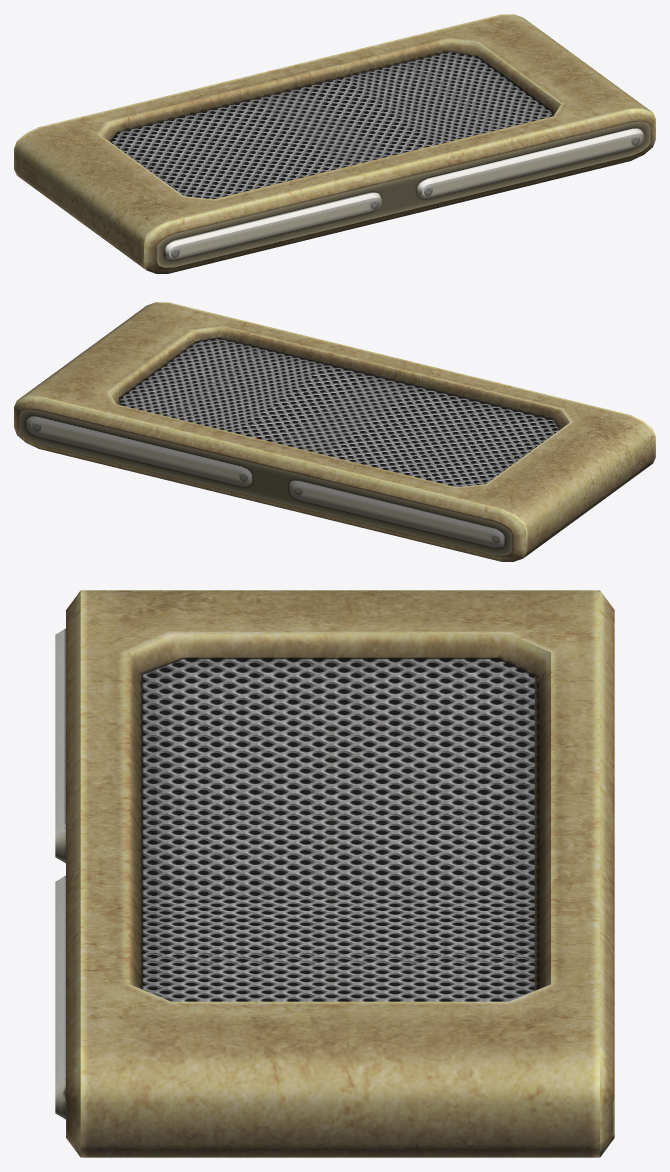
Rendered from platform02.FBX.
3 renders of one model, top to bottom at view 1: azimuth 30°, elevation 25°; view 2: azimuth 150°, elevation 25°; view 3: azimuth 270°, elevation 25°, orthographic. The views are drawn at different scales.
Visible parts, largest first — view 1: platform01; view 2: platform01; view 3: platform01.
Part boxes in pixels (bbox=[...]): platform01: bbox=[14, 14, 655, 273]; platform01: bbox=[14, 302, 655, 561]; platform01: bbox=[55, 590, 614, 1157].
Bounding box in the file's own units: 150 × 14.43 × 70.91.
